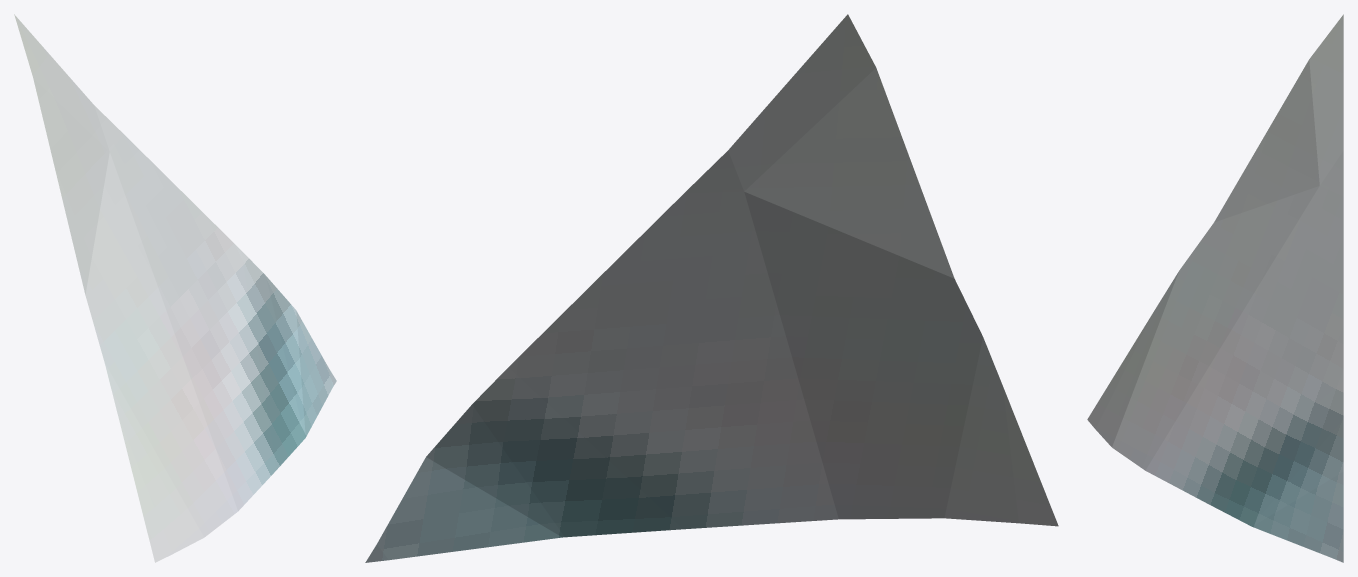
3 renders of one model, left to right at view 1: azimuth 30°, elevation 25°; view 2: azimuth 150°, elevation 25°; view 3: azimuth 270°, elevation 25°, orthographic. The views are drawn at different scales.
Size of the model in its own units: 8.4 by 11.08 by 6.35.
1 material, 1 textured.
